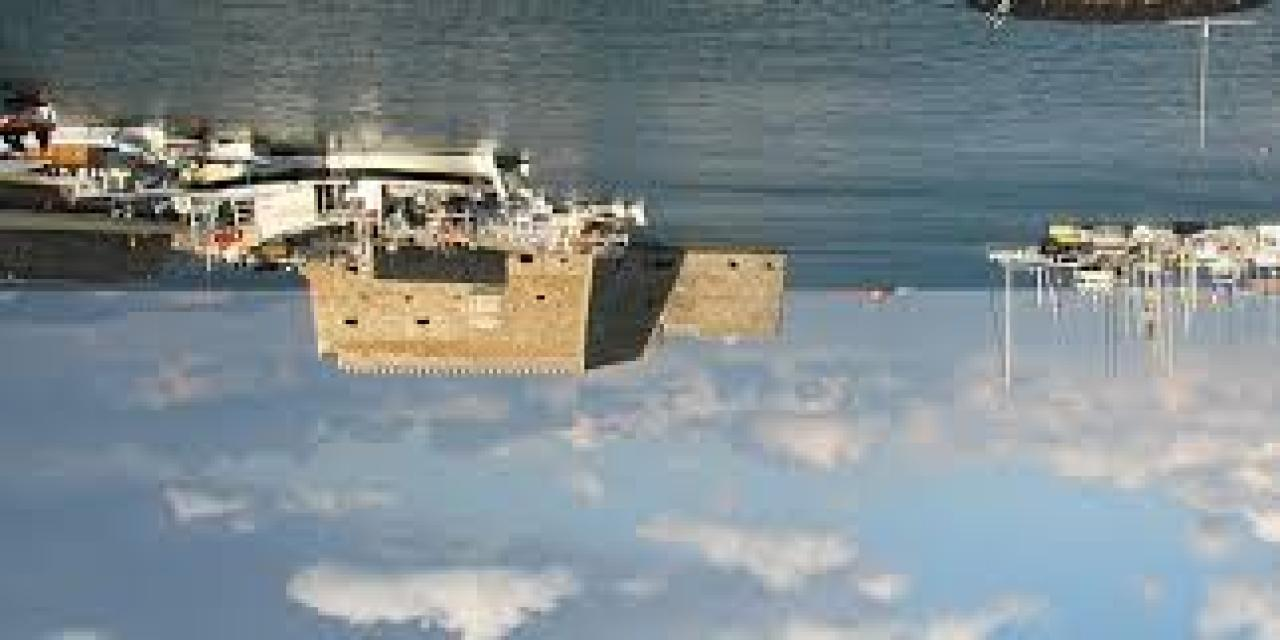Kules: (314, 241, 788, 387)
